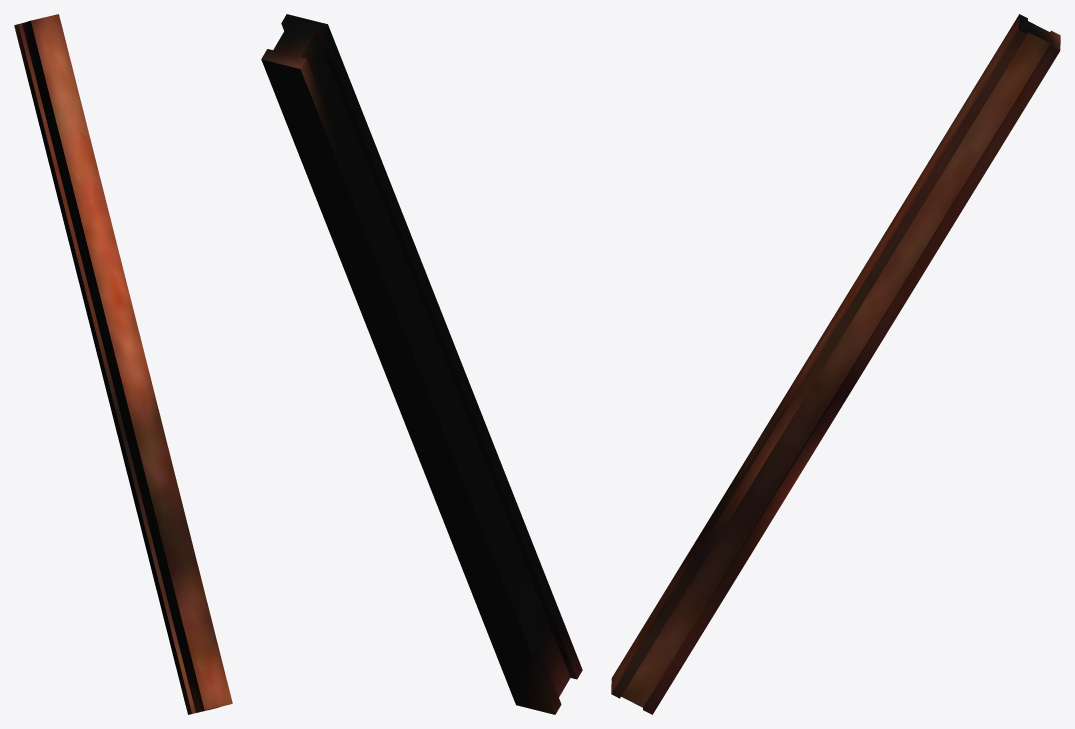
File: hasigo1.obj
3 views of the same model, side by side, from view 1: azimuth 30°, elevation 25°; view 2: azimuth 150°, elevation 25°; view 3: azimuth 270°, elevation 25° (orthographic). The views are drawn at different scales.
Size of the model in its own units: 0.3974 by 7.62 by 4.53.
Materials: 1 (1 with a texture image).
